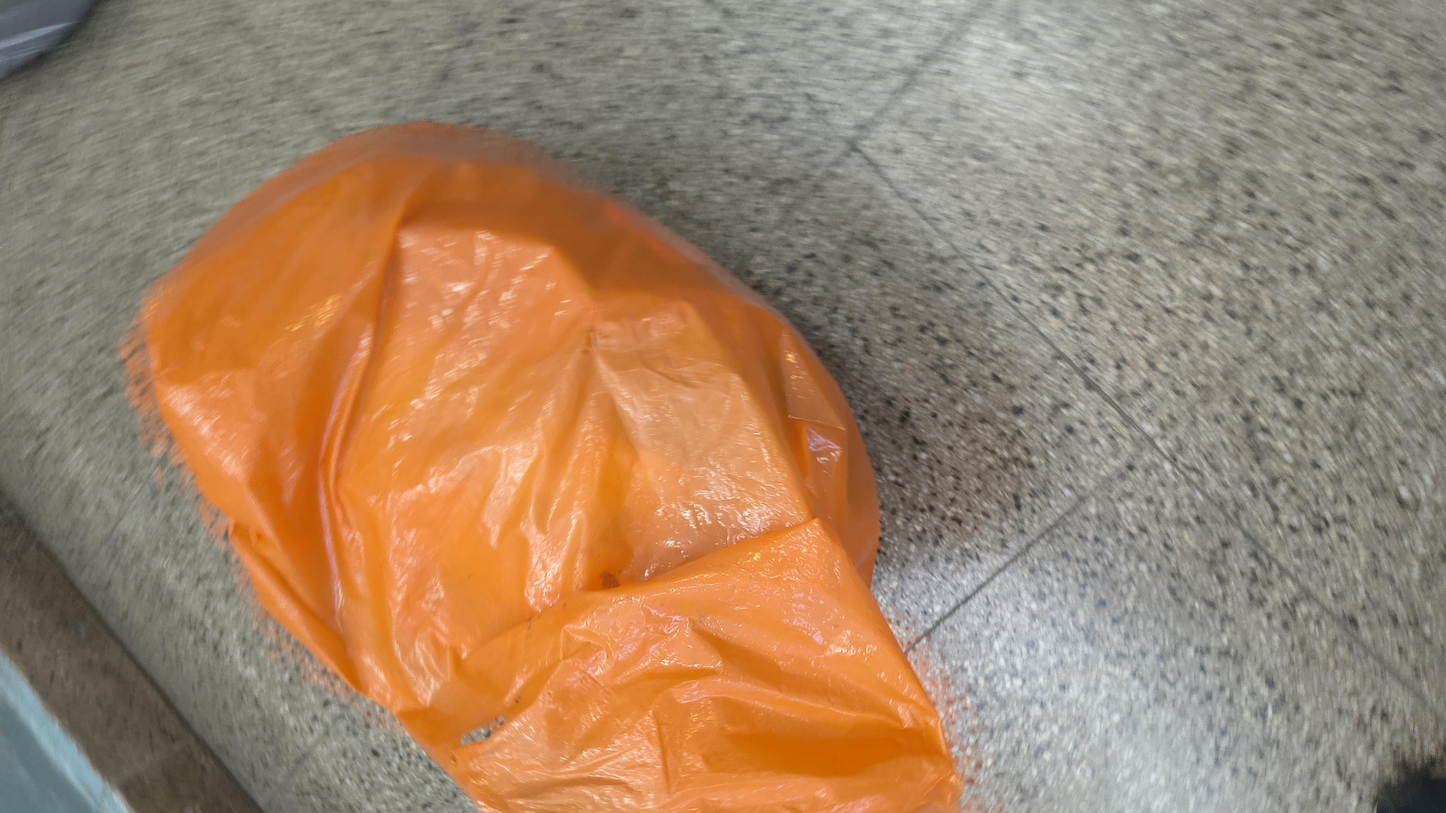Garbage: (457, 0, 1349, 690)
